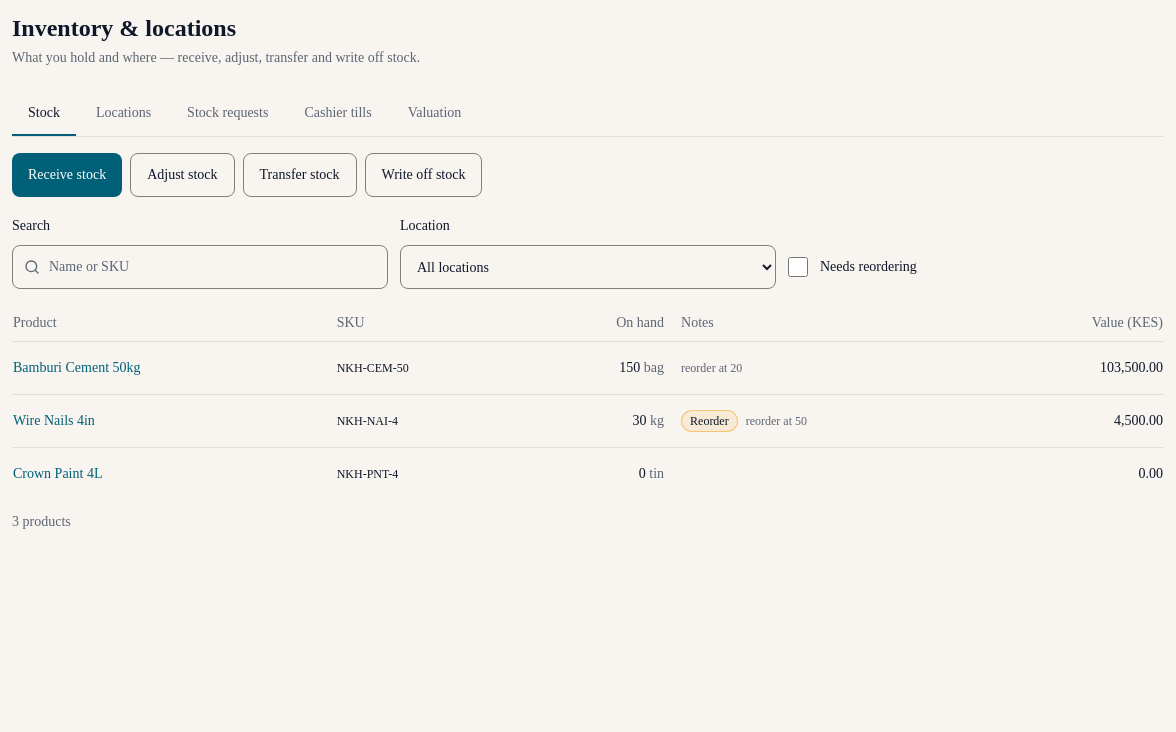
it: the stock list › searches by name or SKU, and a search with no match can be cleared
Check: the table named "Stock" is shown, box x1=12 y1=305 x2=1164 y2=500
Type "nkh-nai" into the search field labelled "Search" at coordinates (200, 267), box x1=12 y1=245 x2=388 y2=289
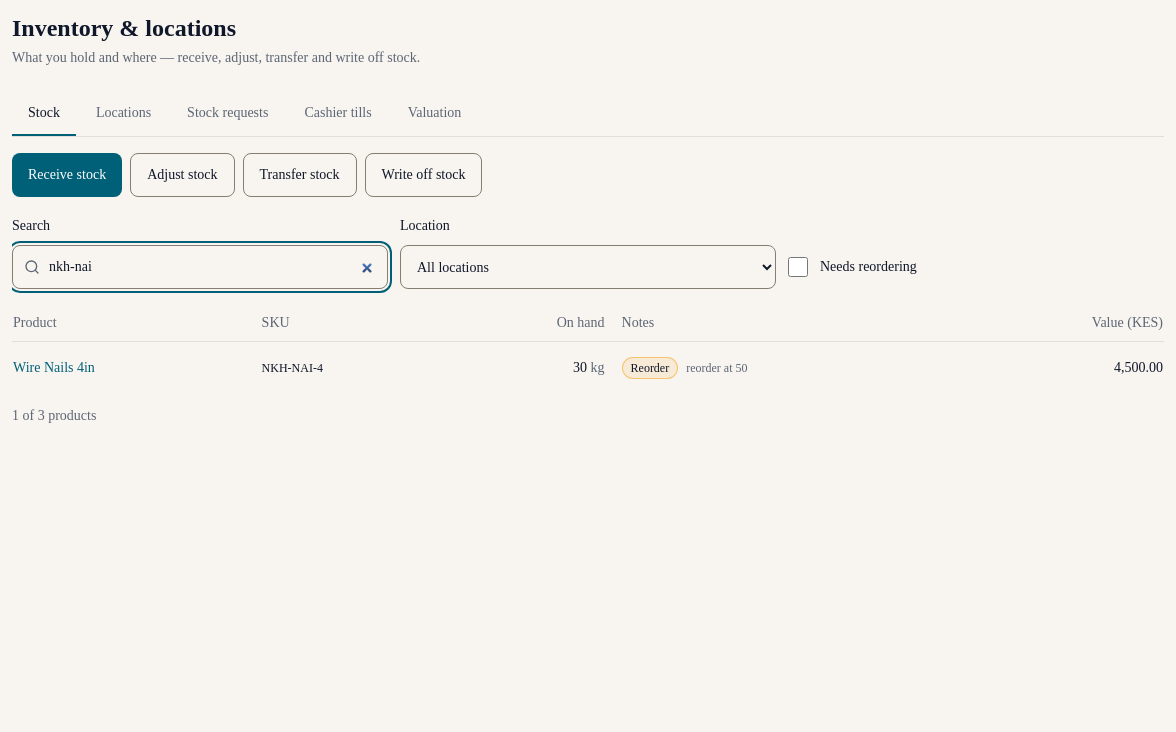
Check: the number of rows is 2, box x1=12 y1=305 x2=1164 y2=342; x1=12 y1=342 x2=1164 y2=394
Check: the text "1 of 3 products" is shown, box x1=12 y1=408 x2=96 y2=423
Type "zzz" into the search field labelled "Search" at coordinates (200, 267), box x1=12 y1=245 x2=388 y2=289
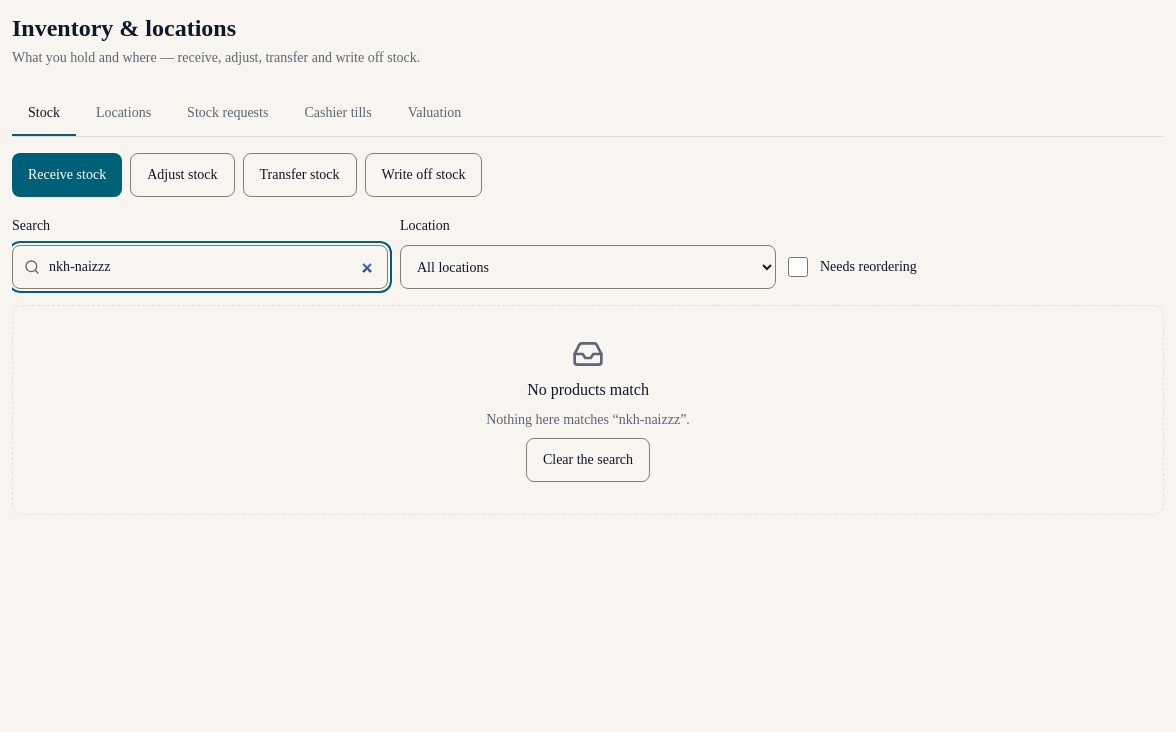
Check: the text "No products match" is shown, box x1=527 y1=378 x2=649 y2=402
Click the button "Clear the search" at coordinates (588, 460), box x1=526 y1=438 x2=650 y2=482
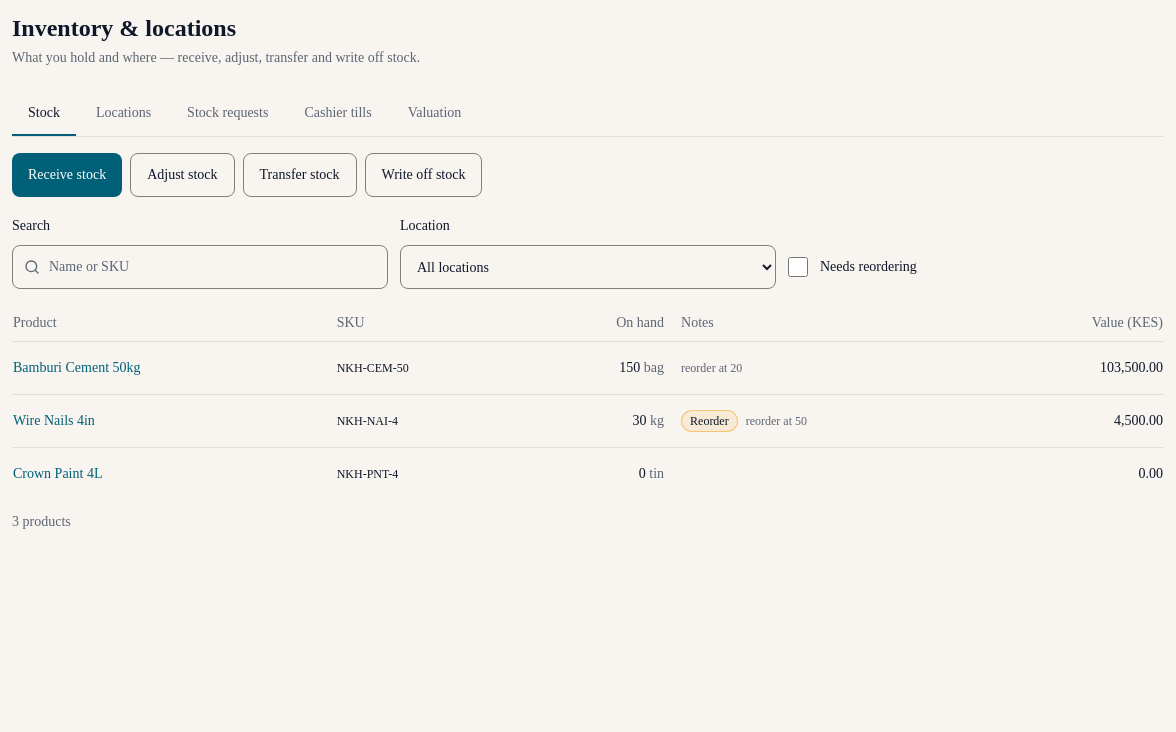
Check: the number of rows is 4, box x1=12 y1=305 x2=1164 y2=342; x1=12 y1=342 x2=1164 y2=394; x1=12 y1=394 x2=1164 y2=448; x1=12 y1=448 x2=1164 y2=500
